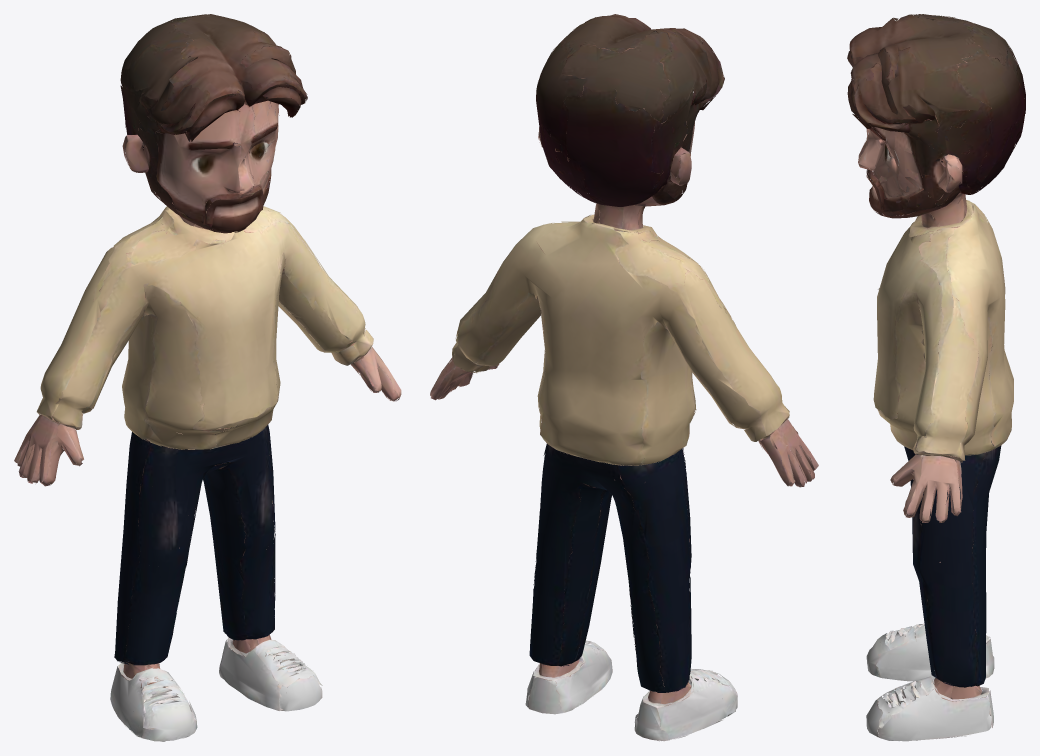
Rendered from gabriel_clean.glb.
The picture shows the model from 3 angles, left to right: view 1: azimuth 30°, elevation 25°; view 2: azimuth 150°, elevation 25°; view 3: azimuth 270°, elevation 25°; orthographic projection.
Visible parts, largest first — view 1: Gabriel; view 2: Gabriel; view 3: Gabriel.
Boxes of the visible parts, box(x1,y1,x2,y2) form: Gabriel: box(14, 14, 401, 741); Gabriel: box(430, 14, 818, 741); Gabriel: box(847, 14, 1025, 741).
Bounding box in the file's own units: 1.01 × 1.75 × 0.4236.
Materials: 1 (1 with a texture image).
